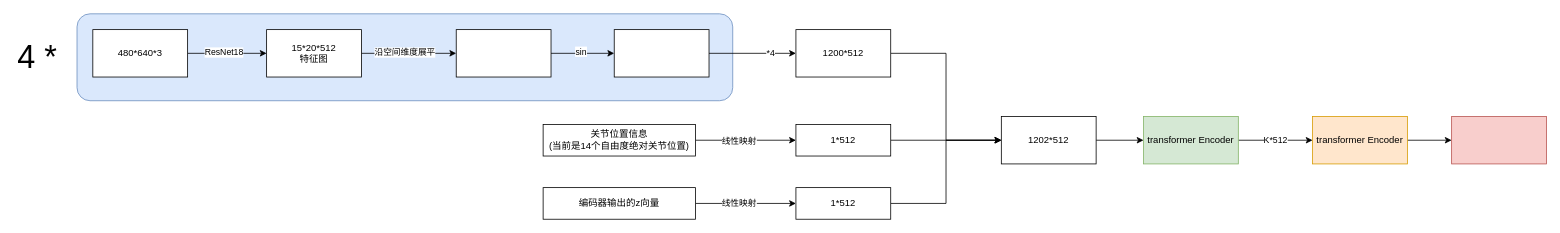
Some shapes in this 1560 by 233 pixel diagram are drawn without their labels. The box of each missing label's shape, as (x1, y1, x2, y2) in pixels:
300*512的序列: (455, 29, 551, 77)
k*14 k:表示k步 14表示因为是双臂，所以对应14个自由度: (1451, 116, 1546, 164)
根据二维正弦曲线添加空间位置信息 300*512: (613, 29, 709, 77)
